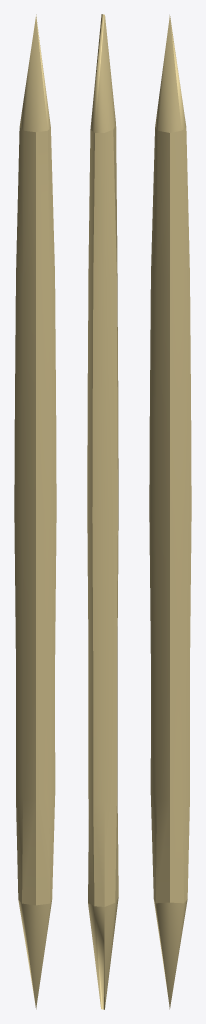
The model's file is stick.fbx.
The picture shows the model from 3 angles, left to right: view 1: azimuth 90°, elevation 25°; view 2: azimuth 150°, elevation 25°; view 3: azimuth 270°, elevation 25°; orthographic projection.
Visible parts, largest first — view 1: Cube.002; view 2: Cube.002; view 3: Cube.002.
Part boxes in pixels (x1=…): Cube.002: x1=14, y1=14, x2=56, y2=1009; Cube.002: x1=87, y1=14, x2=118, y2=1009; Cube.002: x1=149, y1=15, x2=191, y2=1009.
Bounding box in the file's own units: 23.02 × 713 × 27.46.
